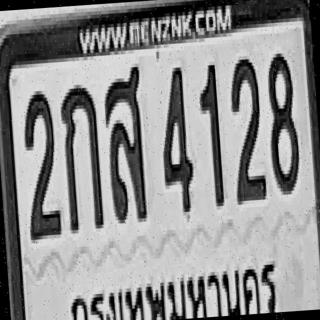A01: (59, 82, 104, 232)
A40: (100, 63, 149, 224)
N01: (196, 62, 225, 207)
N02: (20, 88, 61, 238), (226, 55, 266, 201)
N04: (156, 63, 196, 213)
N08: (264, 49, 300, 192)
P04: (64, 264, 281, 320)
